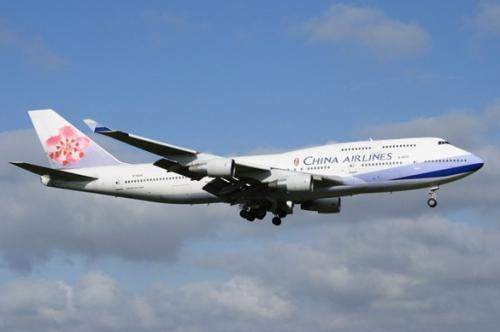airplane: (6, 99, 486, 225)
